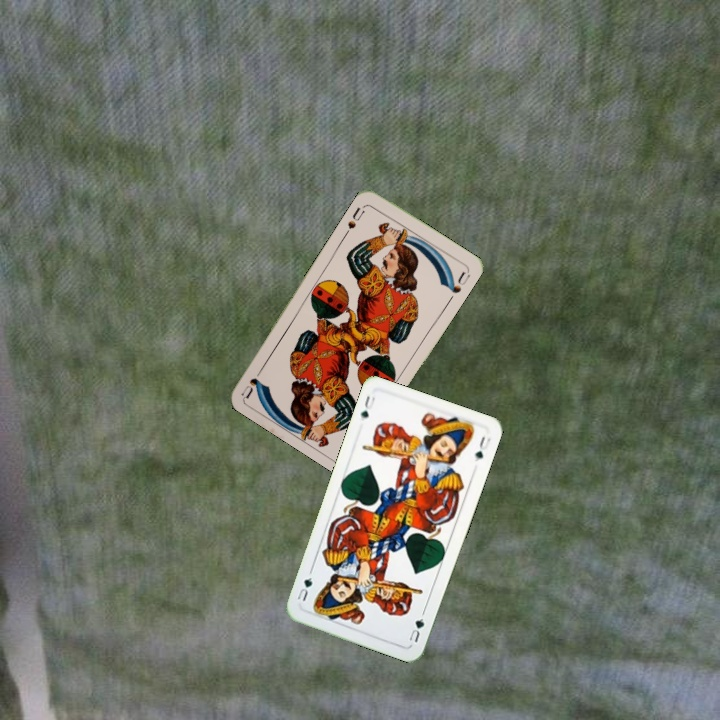GU: (404, 614, 427, 645), (357, 391, 378, 420)
SU: (341, 203, 367, 238)
